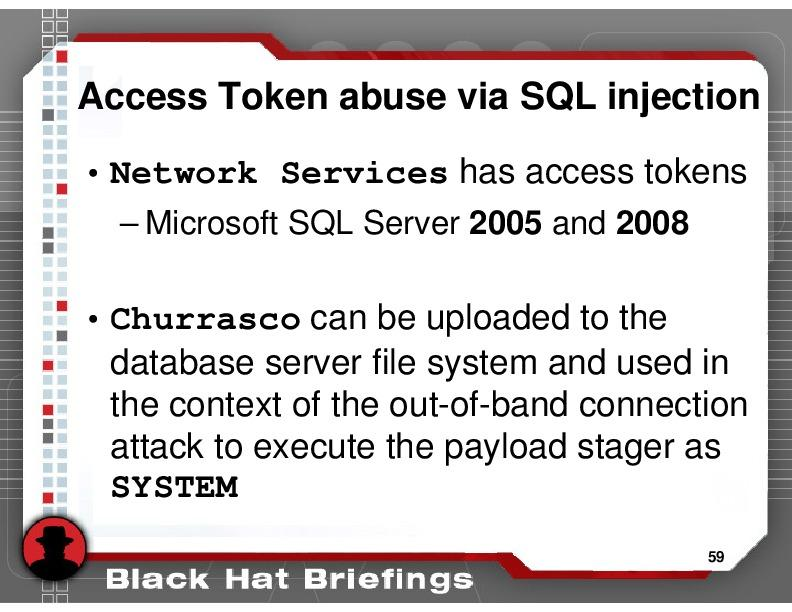paragraph: (84, 147, 757, 518)
subtitle: (100, 560, 485, 599)
title: (77, 63, 766, 135)
